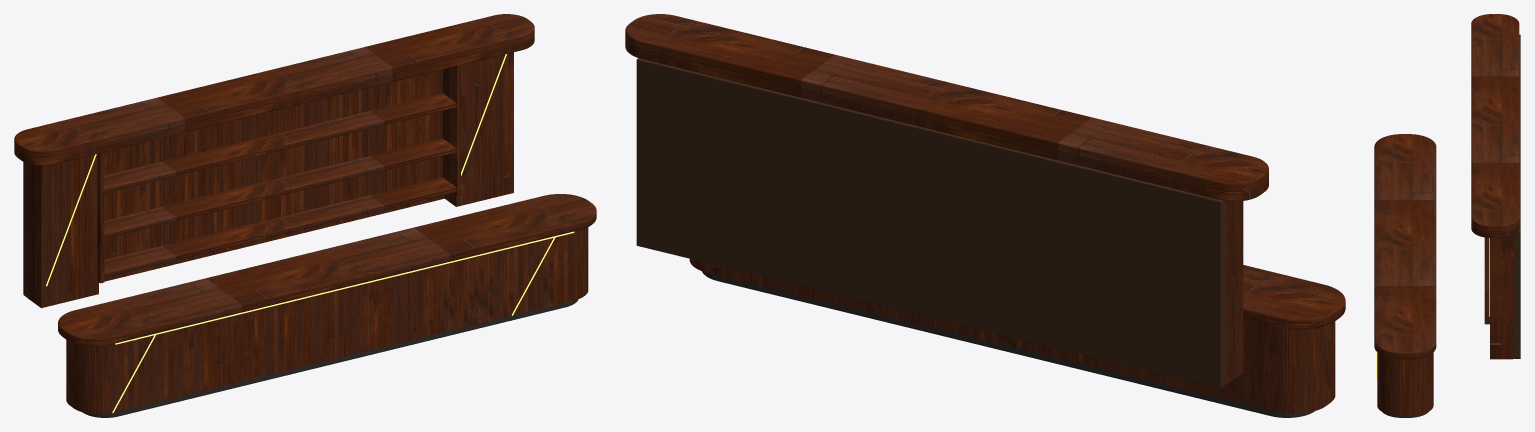
Rendered from arkade-rear-bar.glb.
The picture shows the model from 3 angles, left to right: view 1: azimuth 30°, elevation 25°; view 2: azimuth 150°, elevation 25°; view 3: azimuth 270°, elevation 25°; orthographic projection. The views are drawn at different scales.
Parts seen in each view (by area): view 1: Open cabinet backing and uprights, Counter veneer boards, Rounded walnut countertop, Rounded walnut canopy, Cabinet shelf.001, Cabinet shelf, Cabinet shelf.002, Recessed counter plinth, Shelf end rail.001, Counter substrate, Shelf end rail, Counter straight neon (+1 smaller); view 2: Cabinet backing, Rounded walnut canopy, Counter veneer boards, Rounded walnut countertop, Recessed counter plinth, Open cabinet backing and uprights; view 3: Rounded walnut countertop, Rounded walnut canopy, Counter veneer boards, Open cabinet backing and uprights, Cabinet backing, Shelf end rail.001.
Part boxes in pixels (x1,y1,x2,y2): Open cabinet backing and uprights: (27, 52, 513, 308); Counter veneer boards: (66, 227, 588, 414); Rounded walnut countertop: (58, 194, 596, 346); Rounded walnut canopy: (14, 14, 534, 165); Cabinet shelf.001: (104, 138, 456, 238); Cabinet shelf: (104, 177, 456, 277); Cabinet shelf.002: (104, 93, 456, 193); Recessed counter plinth: (83, 299, 578, 417); Shelf end rail.001: (442, 65, 460, 196); Counter substrate: (313, 243, 533, 363); Shelf end rail: (97, 152, 104, 283); Counter straight neon: (115, 231, 574, 344); Cabinet backing: (636, 58, 1226, 388); Rounded walnut canopy: (625, 14, 1268, 201); Counter veneer boards: (689, 259, 1335, 413); Rounded walnut countertop: (1243, 265, 1345, 329); Recessed counter plinth: (702, 271, 1314, 417); Open cabinet backing and uprights: (1226, 201, 1243, 384); Rounded walnut countertop: (1374, 134, 1436, 359); Rounded walnut canopy: (1471, 14, 1519, 238); Counter veneer boards: (1377, 352, 1433, 416); Open cabinet backing and uprights: (1490, 235, 1513, 359); Cabinet backing: (1513, 34, 1520, 358); Shelf end rail.001: (1484, 237, 1489, 324).
Size of the model in its own units: 8.18 by 3.42 by 2.31.
6 materials, 3 textured.
